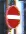No entry: (5, 5, 21, 29)
